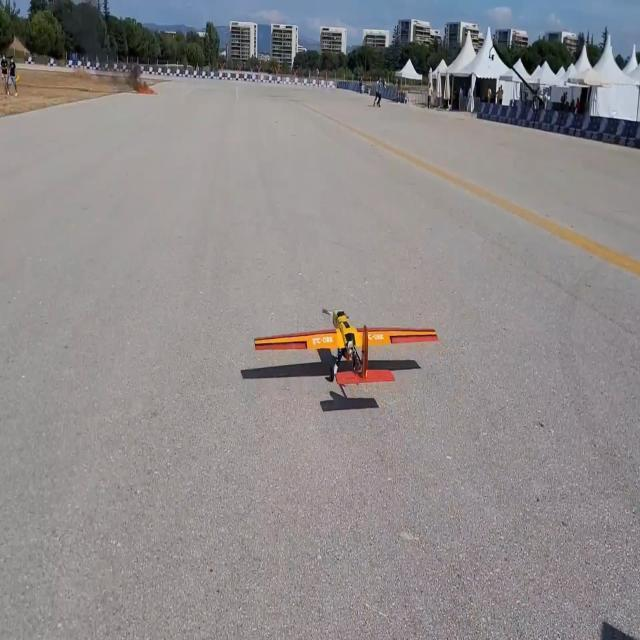iha: (259, 335, 392, 356)
